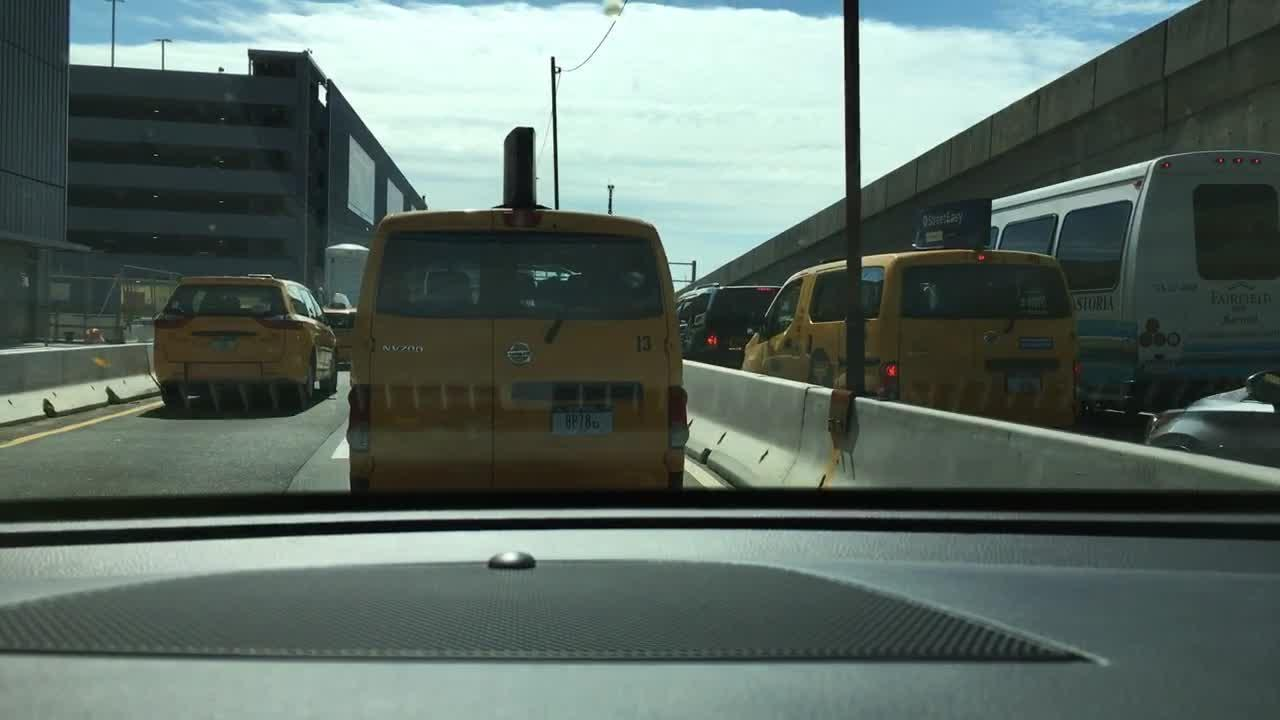Nissan: (495, 336, 542, 372)
